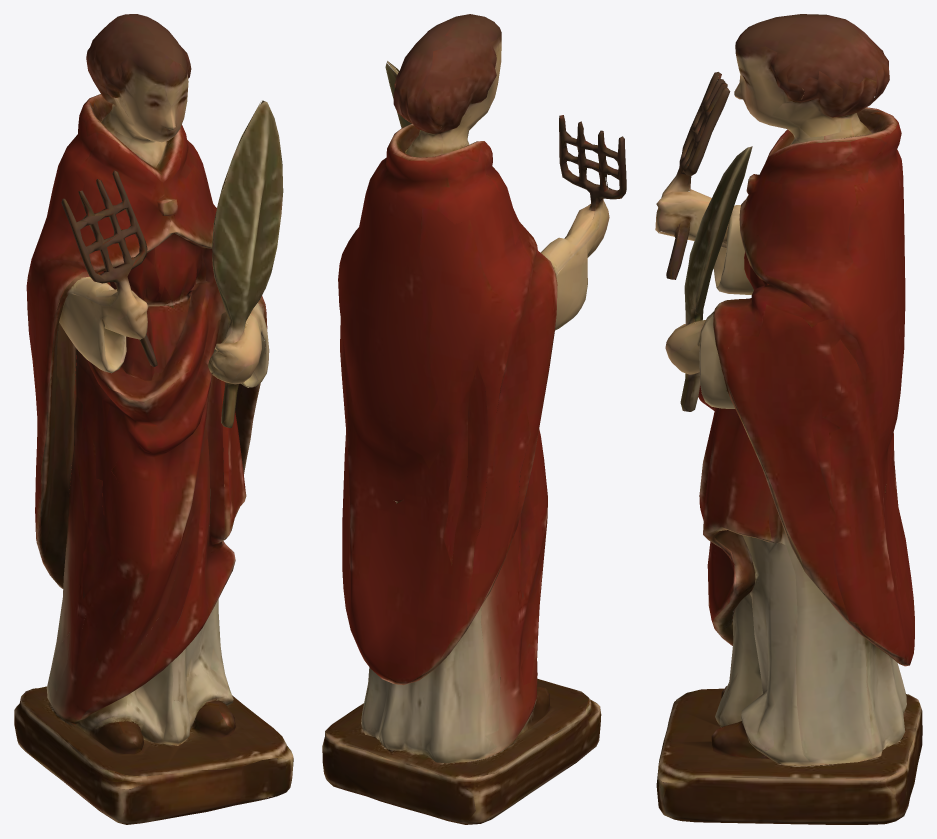
File: san_lorenzo.glb
3 renders of one model, left to right at view 1: azimuth 30°, elevation 25°; view 2: azimuth 150°, elevation 25°; view 3: azimuth 270°, elevation 25°, orthographic. The views are drawn at different scales.
Parts seen in each view (by area): view 1: geometry_0; view 2: geometry_0; view 3: geometry_0.
Boxes of the visible parts, x1,y1,x2,y2 form: geometry_0: (14,14,293,824); geometry_0: (322,14,626,824); geometry_0: (655,14,922,824).
Size of the model in its own units: 0.6004 by 1.9 by 0.6006.
Materials: 1 (1 with a texture image).
